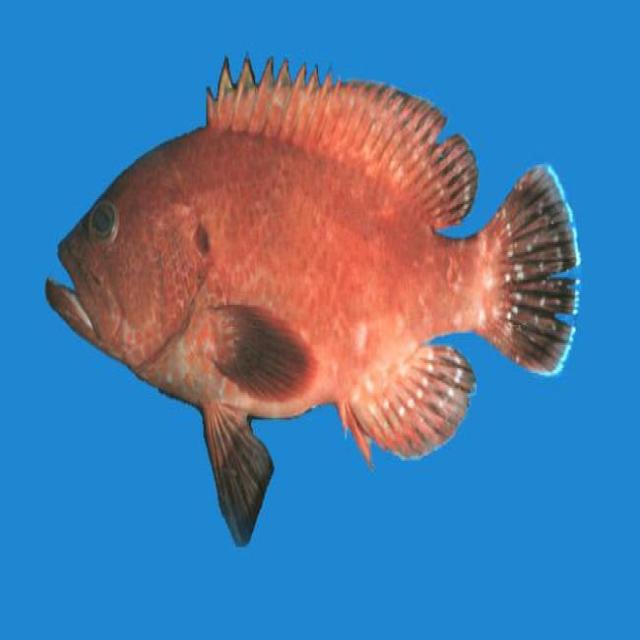ikan: (44, 50, 581, 547)
